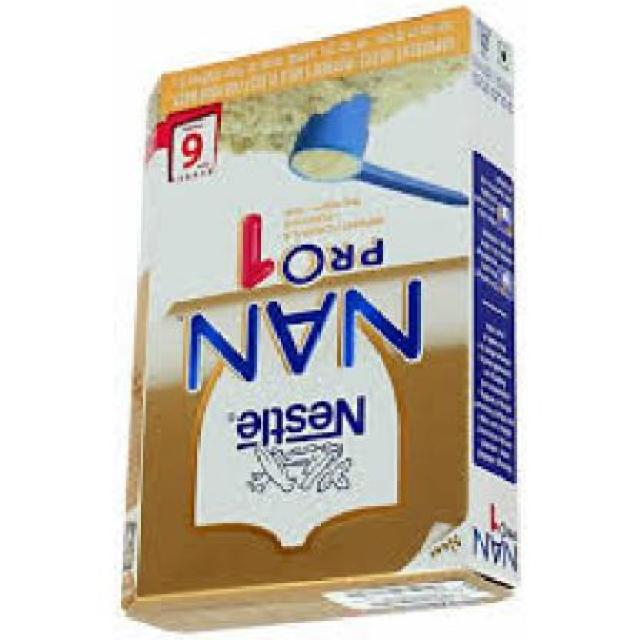CARDBOARD: (123, 12, 523, 638)
